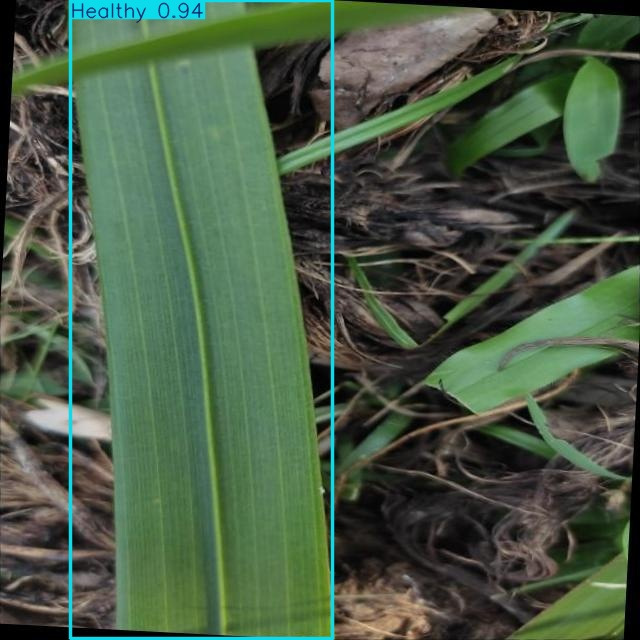Healthy: (71, 0, 332, 638)
